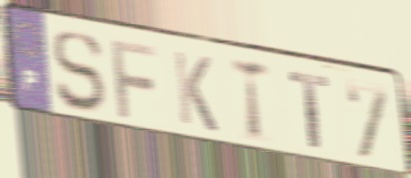7: (344, 75, 391, 163)
F: (107, 35, 161, 121)
K: (171, 47, 221, 136)
S: (49, 30, 107, 115)
T: (229, 54, 273, 145), (286, 69, 331, 152)
